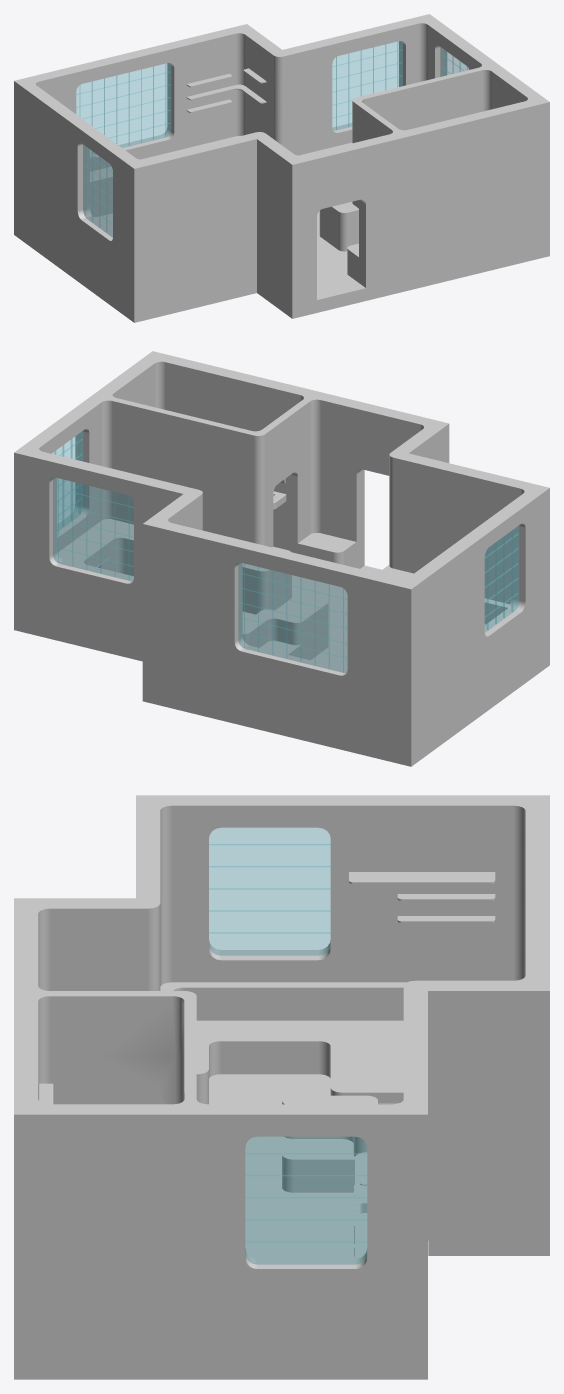
Rendered from memory typeC OptionB.glb.
3 renders of one model, top to bottom at view 1: azimuth 30°, elevation 25°; view 2: azimuth 150°, elevation 25°; view 3: azimuth 270°, elevation 25°, orthographic. The views are drawn at different scales.
Visible parts, largest first — view 1: 卧室墙, 厕所墙, 客厅墙, Glass, 厨房墙, 厨房橱柜, 卧室床15MM 软包边-皮质, 卧室架子; view 2: 卧室墙, 厕所墙, 厨房墙, Glass, 客厅墙, 厨房橱柜, 客厅沙发（软）, 客厅换鞋凳（软）; view 3: 卧室墙, 厕所墙, 厨房墙, Glass, 客厅墙, 卧室床（软）, 卧室床15MM 软包边-皮质, 客厅沙发（软）, 卧室架子, 卧室床（硬）, 客厅沙发（硬）, 厨房橱柜 (+1 smaller).
Part boxes in pixels (<box>): 卧室墙: <box>14,24,281,322</box>; 厕所墙: <box>352,63,549,291</box>; 客厅墙: <box>257,133,402,318</box>; Glass: <box>76,41,468,237</box>; 厨房墙: <box>270,14,496,236</box>; 厨房橱柜: <box>299,142,358,251</box>; 卧室床15MM 软包边-皮质: <box>90,136,239,216</box>; 卧室架子: <box>90,68,266,158</box>; 卧室墙: <box>142,450,549,766</box>; 厕所墙: <box>92,351,321,576</box>; 厨房墙: <box>14,396,255,661</box>; Glass: <box>52,431,519,672</box>; 客厅墙: <box>275,392,449,663</box>; 厨房橱柜: <box>58,519,291,614</box>; 客厅沙发（软）: <box>242,598,328,656</box>; 客厅换鞋凳（软）: <box>297,533,356,564</box>; 卧室墙: <box>136,795,549,1255</box>; 厕所墙: <box>14,987,205,1379</box>; 厨房墙: <box>196,980,427,1379</box>; Glass: <box>209,828,367,1264</box>; 客厅墙: <box>14,898,452,1255</box>; 卧室床（软）: <box>196,1020,403,1103</box>; 卧室床15MM 软包边-皮质: <box>160,982,406,1020</box>; 客厅沙发（软）: <box>282,1095,377,1170</box>; 卧室架子: <box>349,872,495,922</box>; 卧室床（硬）: <box>209,1052,397,1104</box>; 客厅沙发（硬）: <box>282,1167,354,1192</box>; 厨房橱柜: <box>352,1152,367,1258</box>.
Size of the model in its own units: 9.3 by 3.6 by 6.6.
